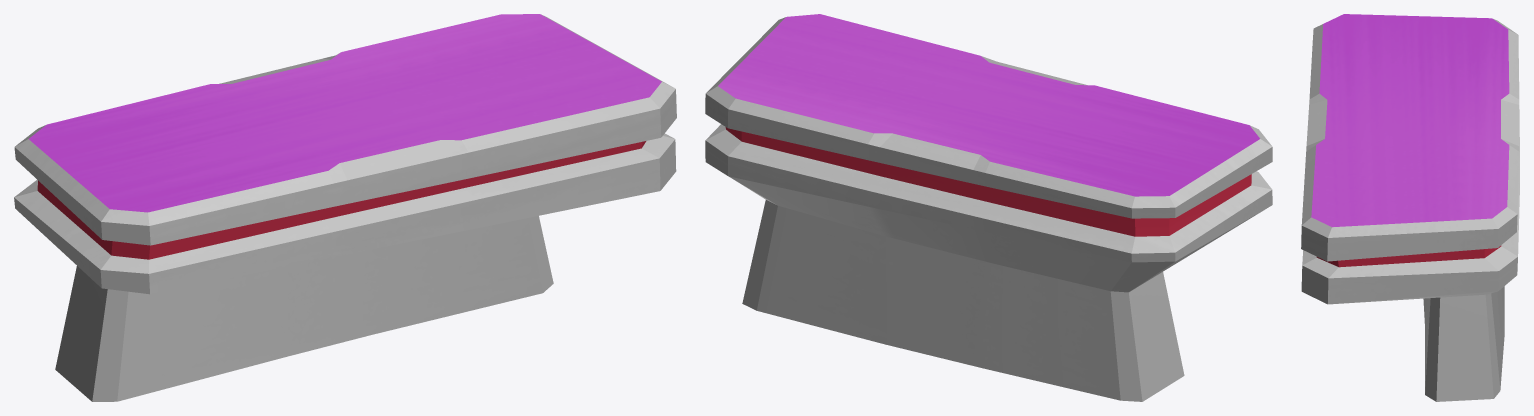
Rendered from Desk.fbx.
3 renders of one model, left to right at view 1: azimuth 30°, elevation 25°; view 2: azimuth 150°, elevation 25°; view 3: azimuth 270°, elevation 25°, orthographic. The views are drawn at different scales.
Visible parts, largest first — view 1: Cube.001; view 2: Cube.001; view 3: Cube.001.
Boxes of the visible parts, x1=… form: Cube.001: x1=14, y1=14, x2=676, y2=401; Cube.001: x1=705, y1=14, x2=1272, y2=401; Cube.001: x1=1301, y1=14, x2=1519, y2=401.
Size of the model in its own units: 187 by 75 by 77.57.
